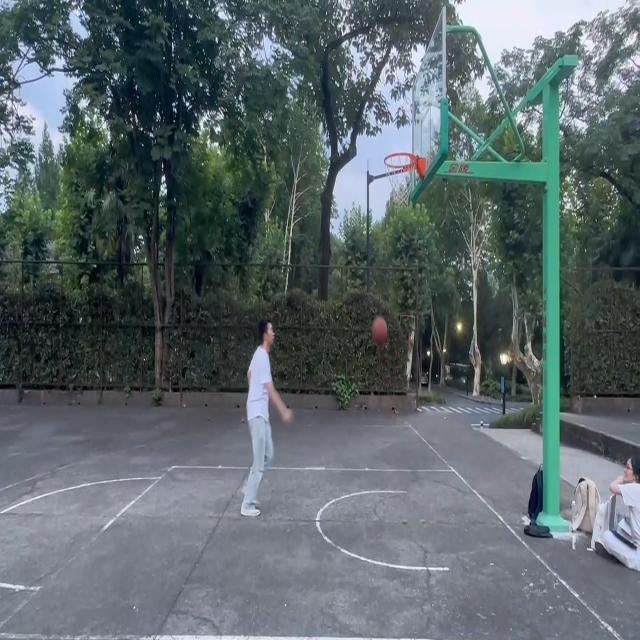basketball: (383, 152, 429, 208)
rim: (374, 316, 388, 343)
